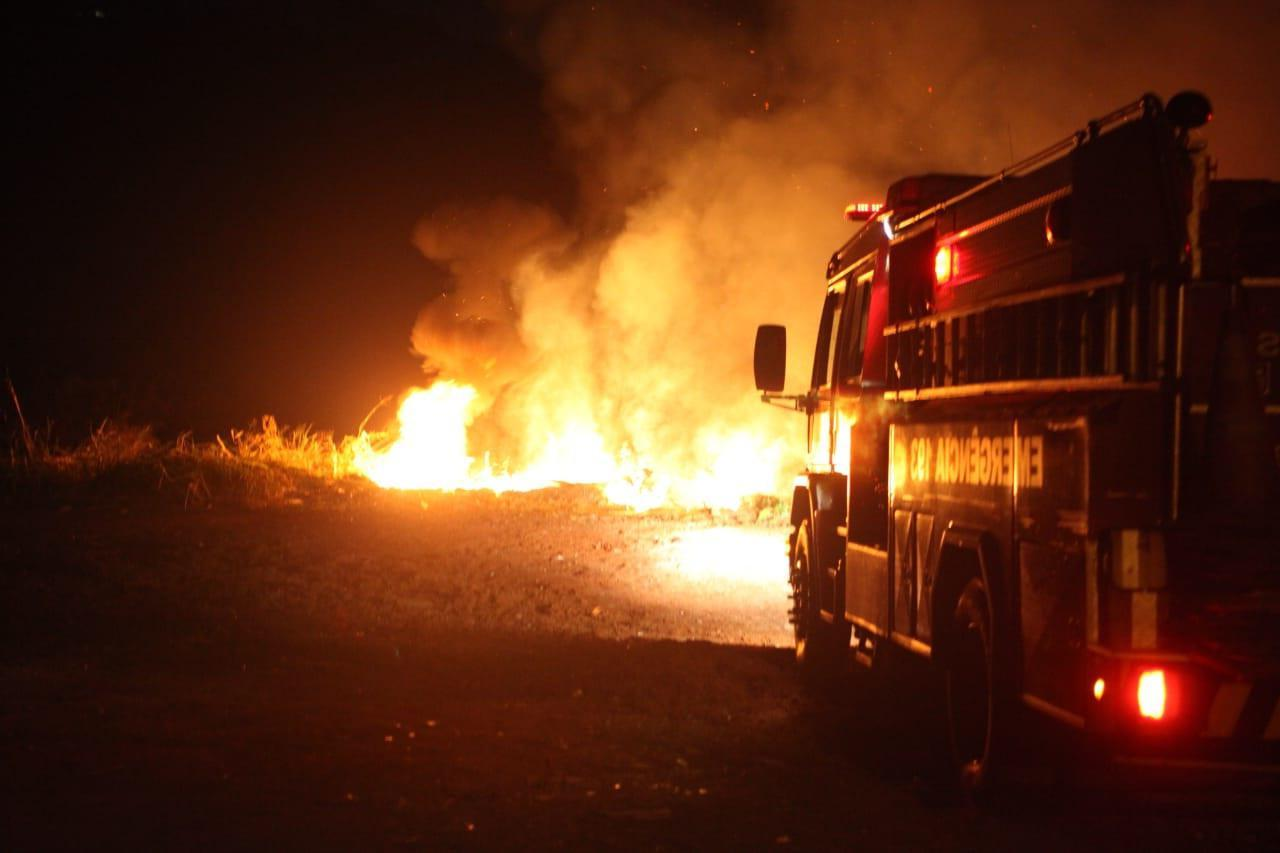Fire: (352, 379, 772, 513)
